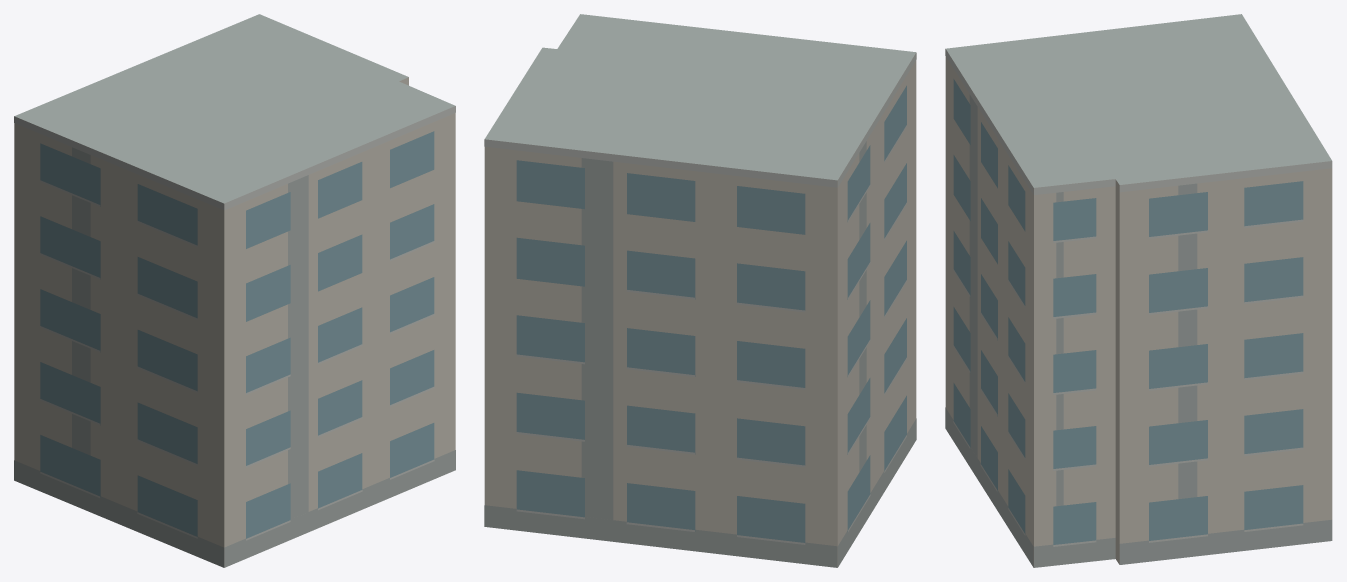
File: survey-upis-32692836.glb
3 views of the same model, side by side, from view 1: azimuth 30°, elevation 25°; view 2: azimuth 150°, elevation 25°; view 3: azimuth 270°, elevation 25° (orthographic). The views are drawn at different scales.
Visible parts, largest first — view 1: survey-upis-32692836.tmp; view 2: survey-upis-32692836.tmp; view 3: survey-upis-32692836.tmp.
Boxes of the visible parts, x1,y1,x2,y2 form: survey-upis-32692836.tmp: [14, 14, 455, 567]; survey-upis-32692836.tmp: [484, 14, 916, 567]; survey-upis-32692836.tmp: [945, 14, 1332, 567].
Bounding box in the file's own units: 12.58 × 12.8 × 11.82.
